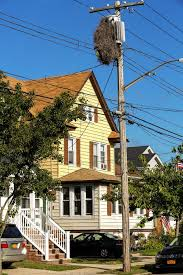bird-nest: (92, 17, 119, 63)
